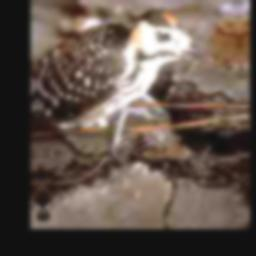Woodpecker: (36, 4, 227, 159)
